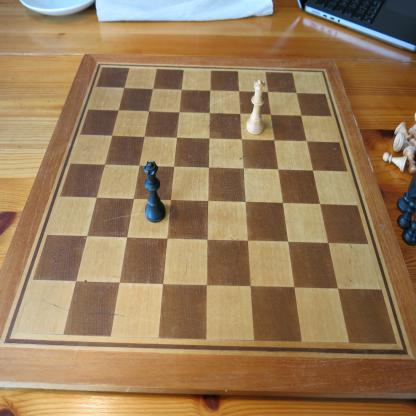black-pawn: (397, 199, 415, 231), (401, 215, 416, 247)
black-queen: (143, 160, 166, 224)
white-pawn: (382, 151, 408, 173), (402, 145, 415, 176)
white-queen: (246, 78, 266, 136)
